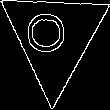O_E: (30, 15, 78, 61)
